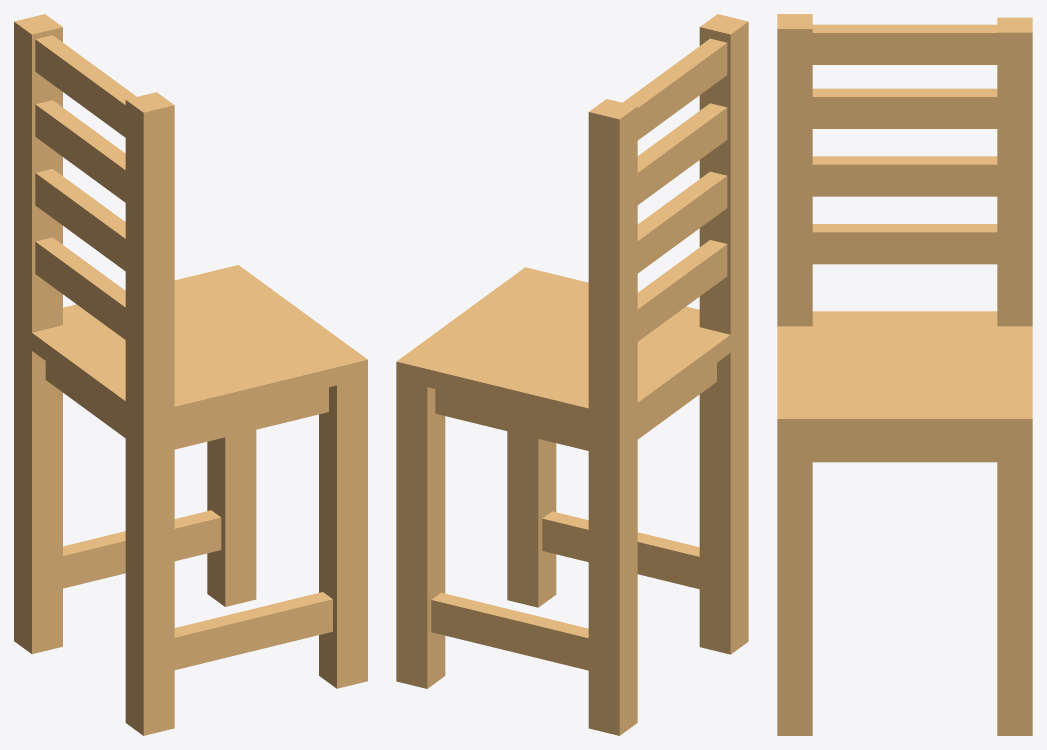
Rendered from wooden-chair.glb.
The picture shows the model from 3 angles, left to right: view 1: azimuth 30°, elevation 25°; view 2: azimuth 150°, elevation 25°; view 3: azimuth 270°, elevation 25°; orthographic projection.
Visible parts, largest first — view 1: Node; view 2: Node; view 3: Node.
Boxes of the visible parts, x1,y1,x2,y2 form: Node: [14, 14, 367, 735]; Node: [396, 14, 748, 735]; Node: [777, 14, 1032, 735].
Size of the model in its own units: 0.65 by 1.73 by 0.65.
